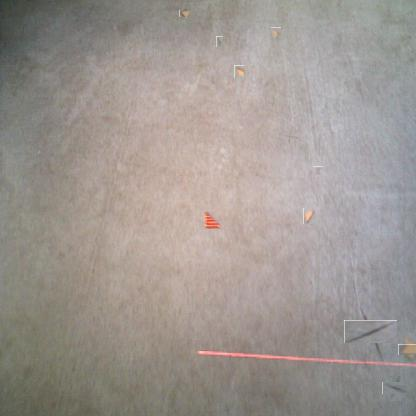dirty: (204, 209, 224, 230), (401, 340, 416, 358), (303, 208, 316, 224), (234, 65, 245, 78), (271, 28, 282, 40), (180, 9, 190, 18)
mark: (351, 312, 390, 350), (386, 379, 404, 398), (285, 129, 297, 141), (314, 166, 323, 176), (216, 36, 223, 47), (111, 53, 117, 61)
